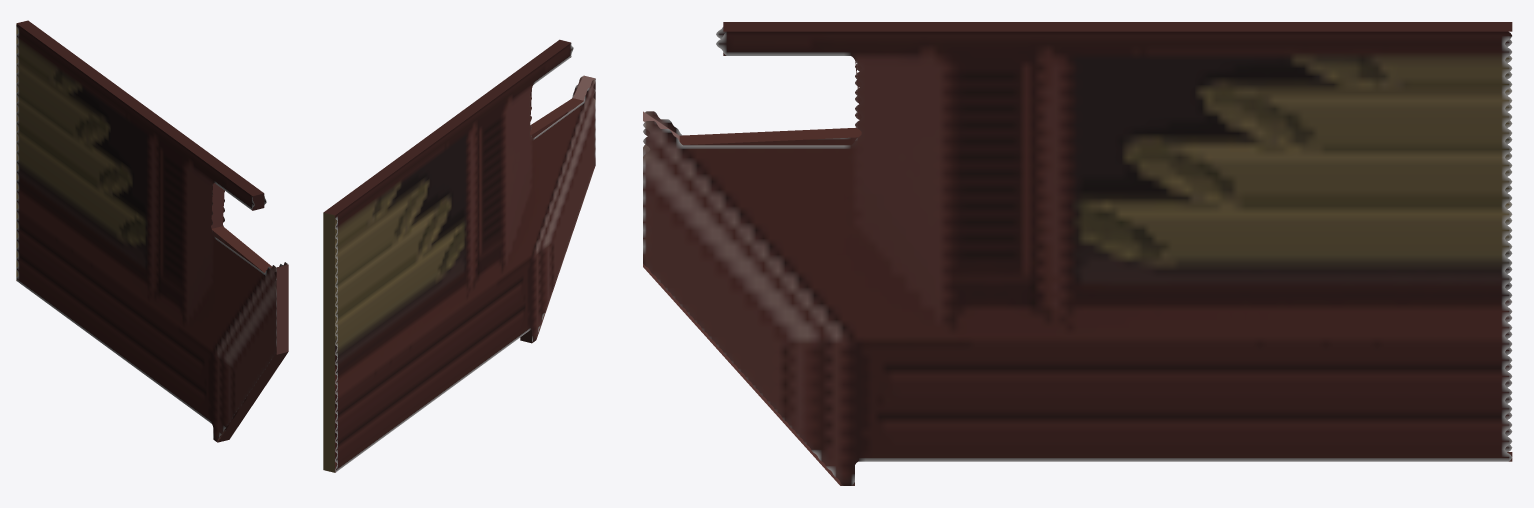
File: pz_native_location_community_church_small_01_210_frame.obj
3 renders of one model, left to right at view 1: azimuth 30°, elevation 25°; view 2: azimuth 150°, elevation 25°; view 3: azimuth 270°, elevation 25°, orthographic. The views are drawn at different scales.
Parts seen in each view (by area): view 1: pz_native_location_community_church_small_01_210_frame; view 2: pz_native_location_community_church_small_01_210_frame; view 3: pz_native_location_community_church_small_01_210_frame.
Boxes of the visible parts, x1=… form: pz_native_location_community_church_small_01_210_frame: x1=16, y1=20, x2=288, y2=442; pz_native_location_community_church_small_01_210_frame: x1=323, y1=39, x2=595, y2=472; pz_native_location_community_church_small_01_210_frame: x1=643, y1=22, x2=1512, y2=485.
Bounding box in the file's own units: 0.04 × 0.9062 × 1.56.
1 material, 1 textured.
